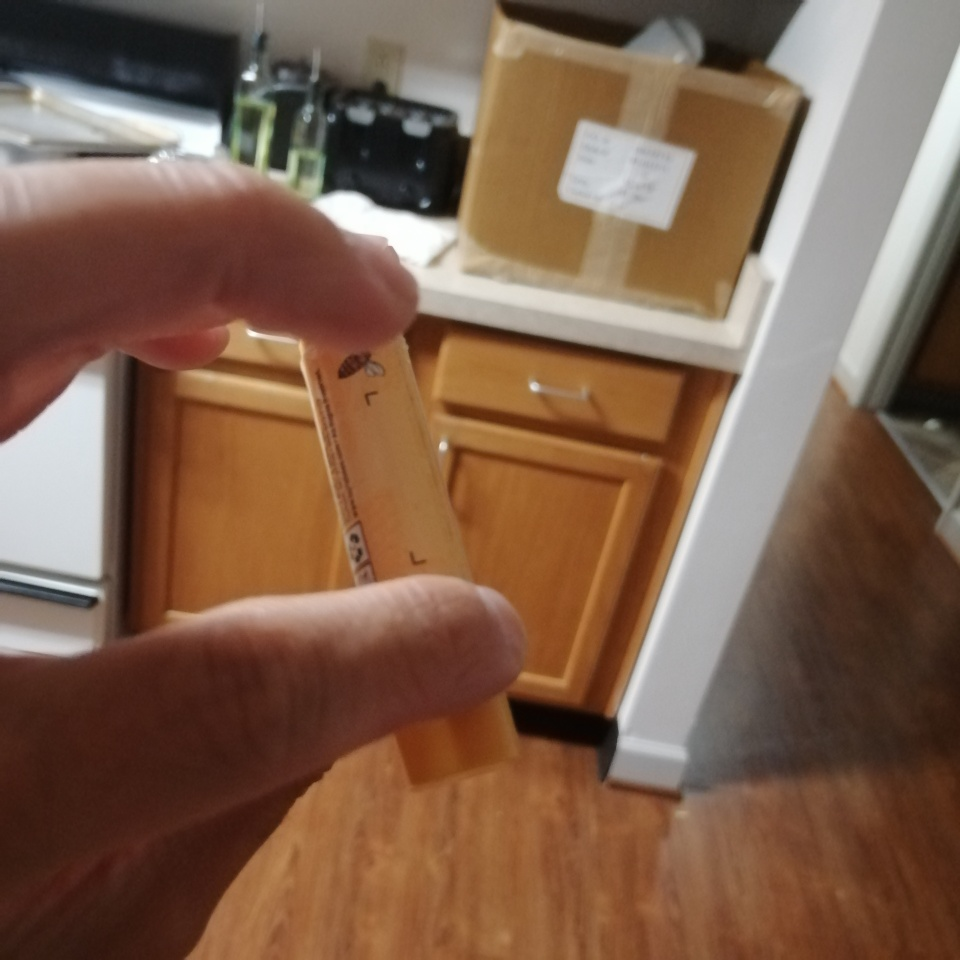chapstick: (299, 333, 522, 792)
